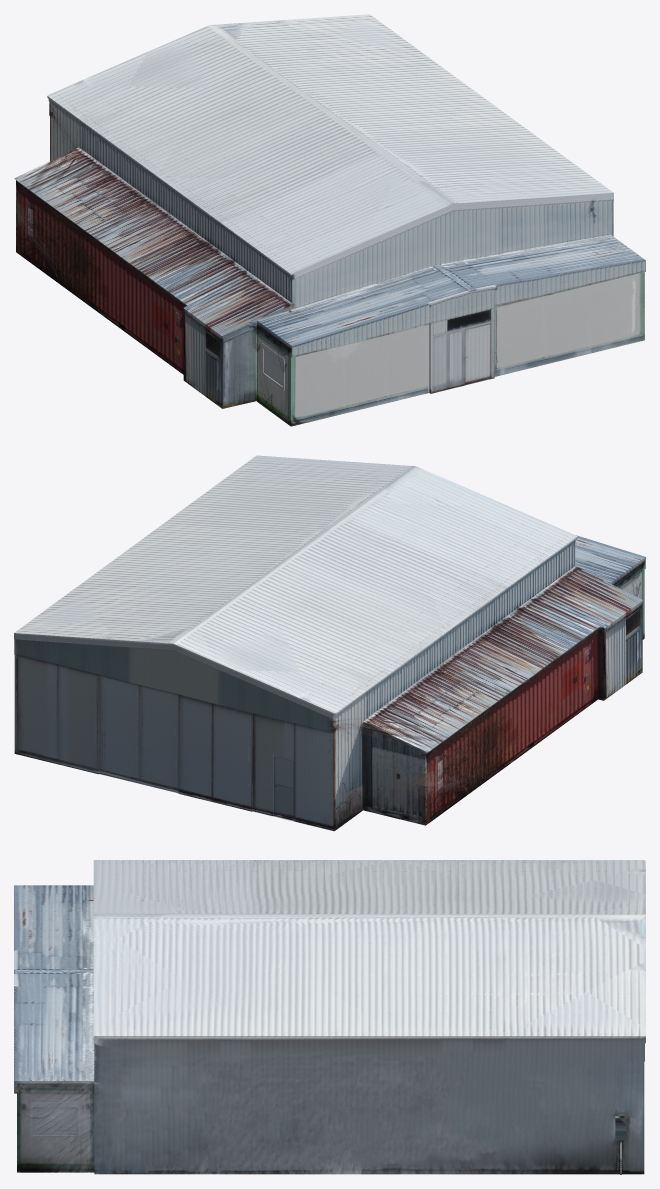
Rendered from aircraft_hangar.glb.
3 renders of one model, top to bottom at view 1: azimuth 30°, elevation 25°; view 2: azimuth 150°, elevation 25°; view 3: azimuth 270°, elevation 25°, orthographic. The views are drawn at different scales.
Visible parts, largest first — view 1: LQBI_Hangar3; view 2: LQBI_Hangar3; view 3: LQBI_Hangar3.
Boxes of the visible parts, box(x1,y1,x2,y2) form: LQBI_Hangar3: box(14, 14, 645, 426); LQBI_Hangar3: box(14, 455, 645, 831); LQBI_Hangar3: box(14, 860, 645, 1174).
Size of the model in its own units: 15.43 by 5.62 by 18.9.
Materials: 1 (1 with a texture image).
